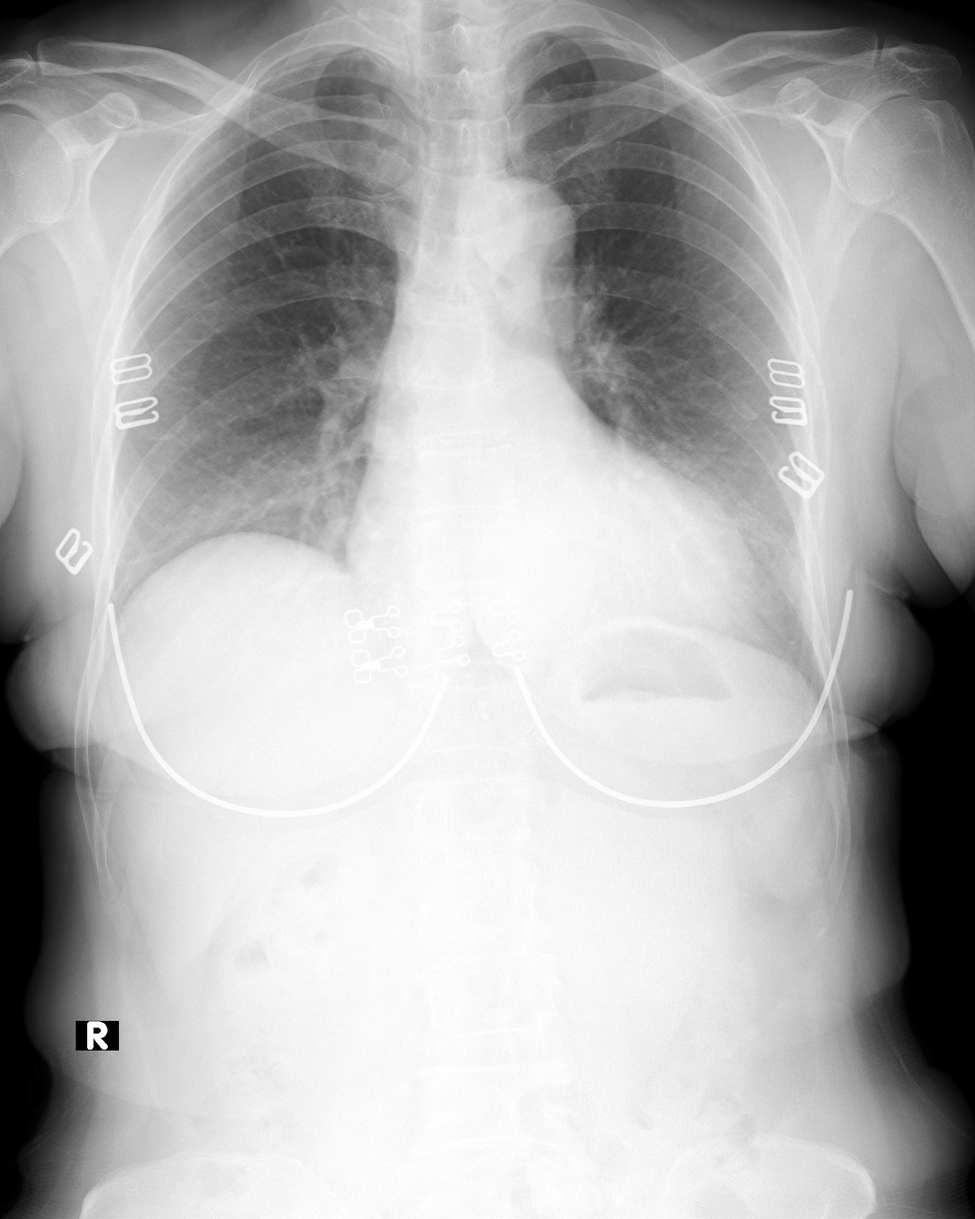Aortic enlargement: (457, 176, 581, 296)
Cardiomegaly: (343, 492, 763, 644)
Pleural thickening: (518, 15, 648, 52), (257, 36, 390, 69)
